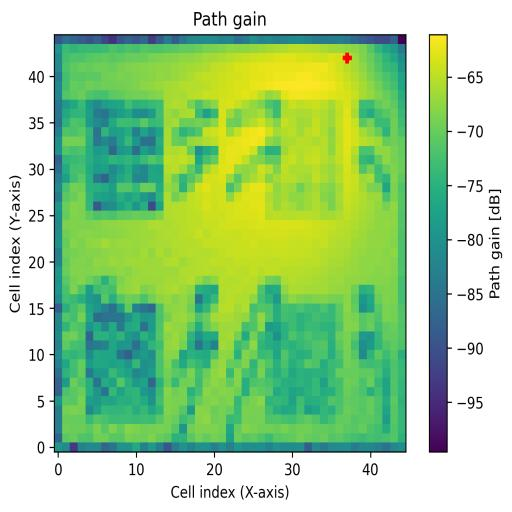Concrete: (265, 100, 342, 211)
Glass: (86, 99, 164, 221)
Metal: (265, 295, 344, 416)
Wood: (85, 294, 165, 424)
